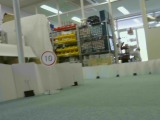speed_10: (40, 50, 57, 67)
